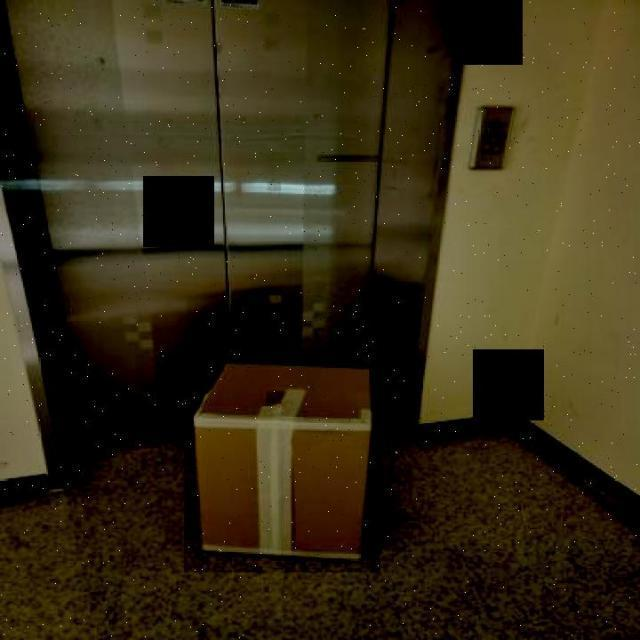box: (184, 353, 380, 572)
